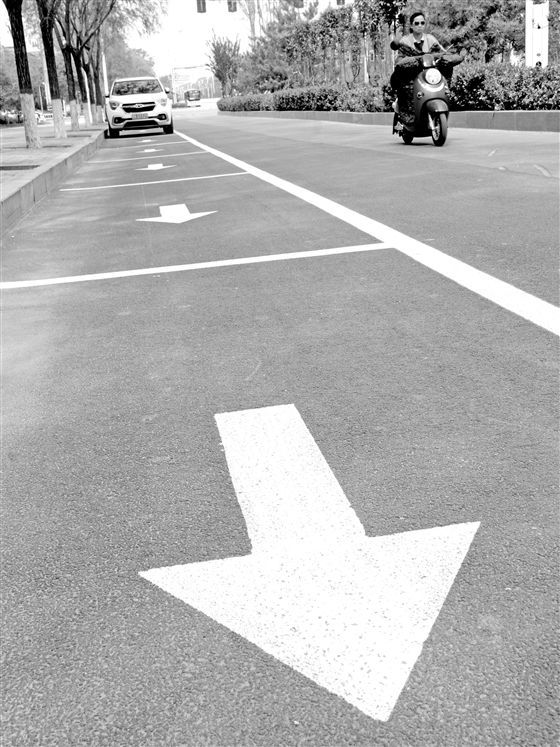slot_nocar: (1, 234, 560, 743), (1, 159, 411, 299), (54, 142, 255, 194), (83, 134, 213, 164)
